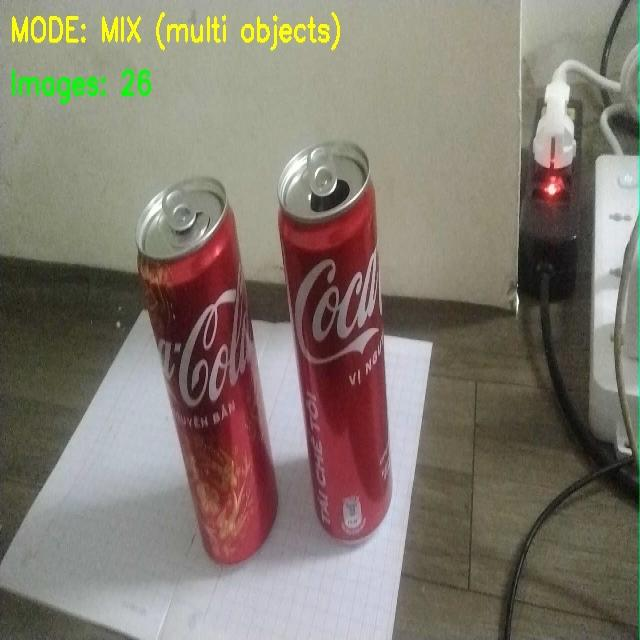Coca: (119, 150, 278, 572)
Coca_open: (276, 148, 430, 569)
